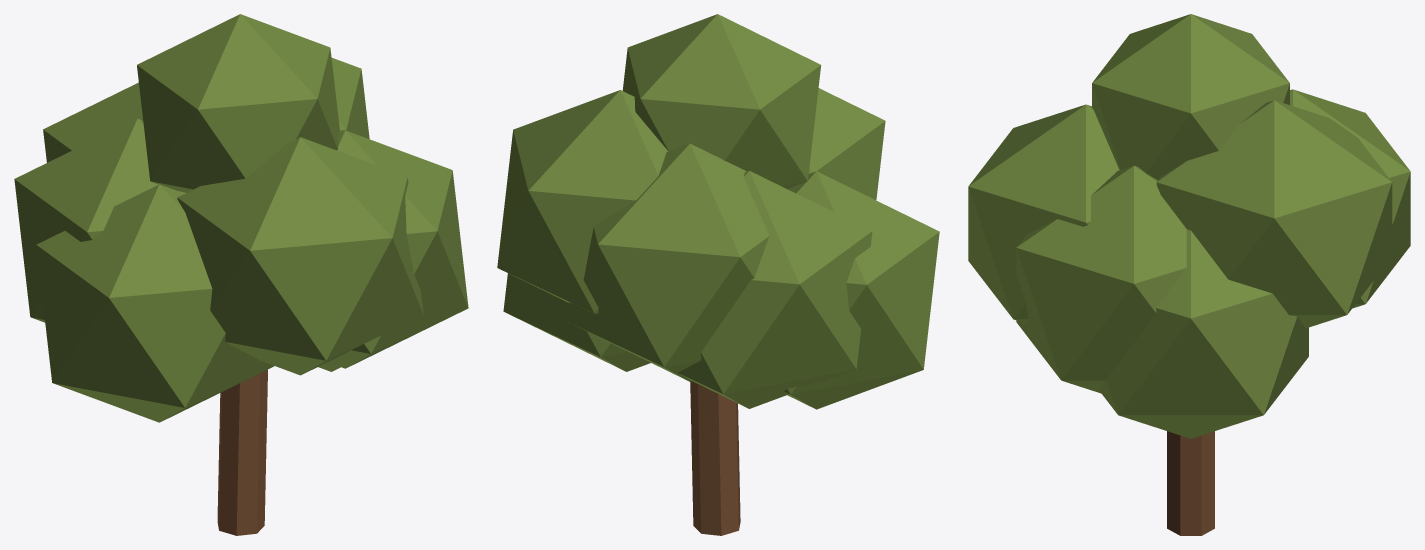
File: tree_20.glb
3 views of the same model, side by side, from view 1: azimuth 30°, elevation 25°; view 2: azimuth 150°, elevation 25°; view 3: azimuth 270°, elevation 25° (orthographic).
Visible parts, largest first — view 1: tree_20; view 2: tree_20; view 3: tree_20.
Boxes of the visible parts, left/top/right/bottom form: tree_20: left=14, top=14, right=468, bottom=535; tree_20: left=497, top=14, right=939, bottom=535; tree_20: left=968, top=14, right=1410, bottom=535.
Size of the model in its own units: 4.29 by 5.31 by 4.15.
